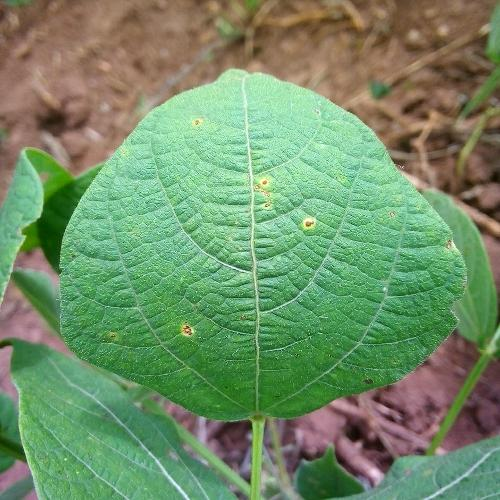hawar: (248, 172, 276, 222), (292, 213, 322, 241), (184, 110, 212, 136), (176, 316, 199, 346)
mozaik: (74, 180, 444, 415)
